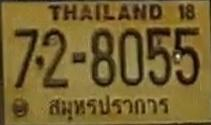0: (118, 28, 142, 86)
2: (39, 28, 67, 88)
5: (173, 26, 199, 84), (146, 27, 170, 86)
7: (13, 28, 38, 88)
8: (90, 28, 114, 86)
SPK: (46, 92, 174, 122)
